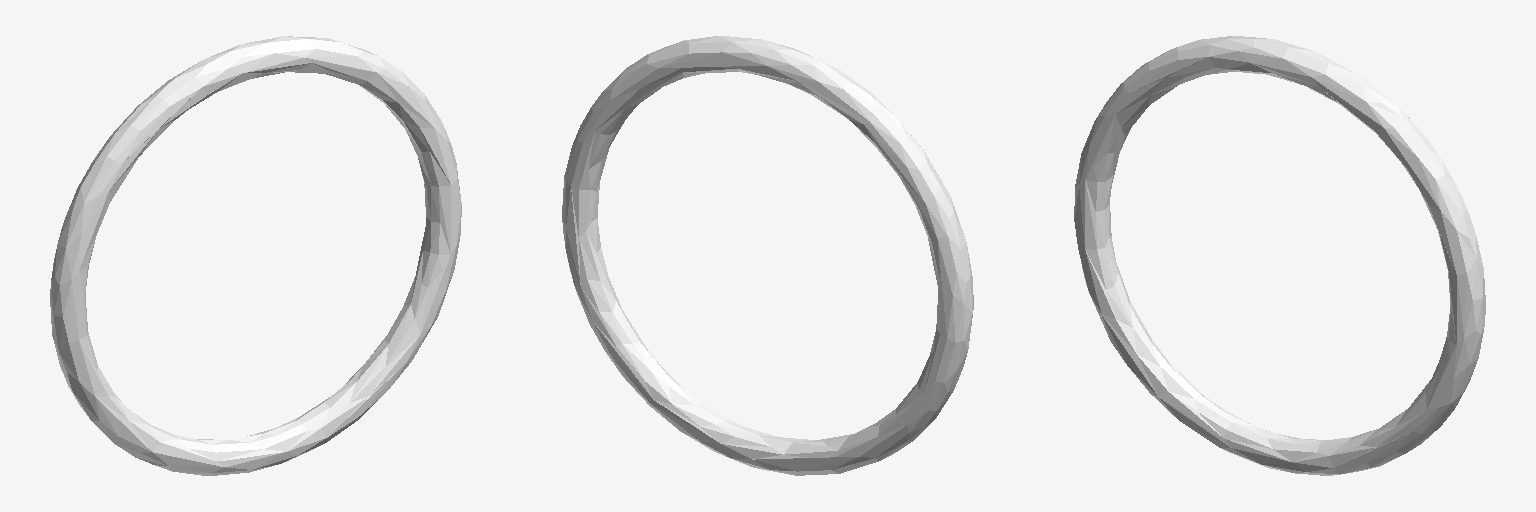
File: Dichtung_Kolben.obj
3 views of the same model, side by side, from view 1: azimuth 30°, elevation 25°; view 2: azimuth 150°, elevation 25°; view 3: azimuth 330°, elevation 25° (orthographic).
Parts seen in each view (by area): view 1: Pneumatikspanner.034_Opaque(210,210,255); view 2: Pneumatikspanner.034_Opaque(210,210,255); view 3: Pneumatikspanner.034_Opaque(210,210,255).
Part boxes in pixels (x1,y1,x2,y2): Pneumatikspanner.034_Opaque(210,210,255): (50, 36, 461, 475); Pneumatikspanner.034_Opaque(210,210,255): (562, 36, 973, 475); Pneumatikspanner.034_Opaque(210,210,255): (1074, 36, 1485, 475).
Bounding box in the file's own units: 0.0395 × 0.0395 × 0.003.